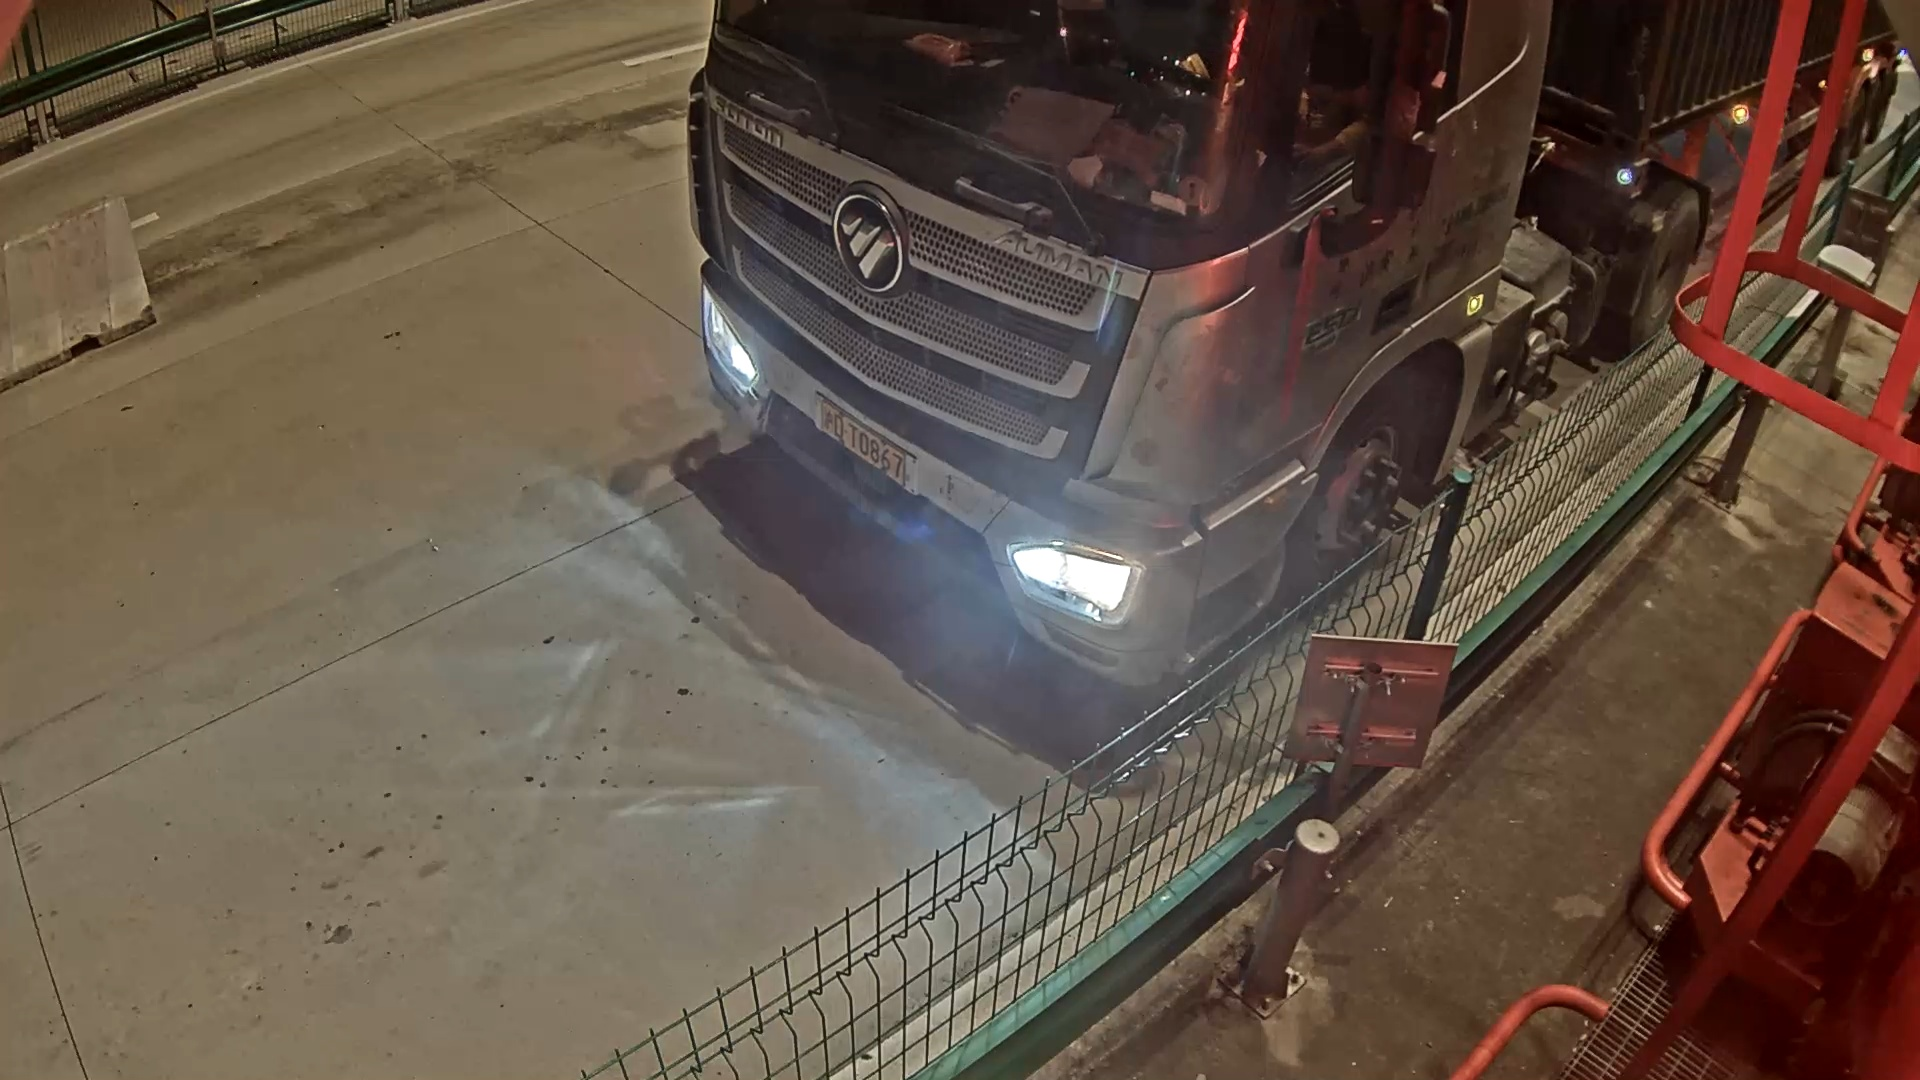head: (674, 11, 1355, 700)
plate: (802, 393, 918, 492)
